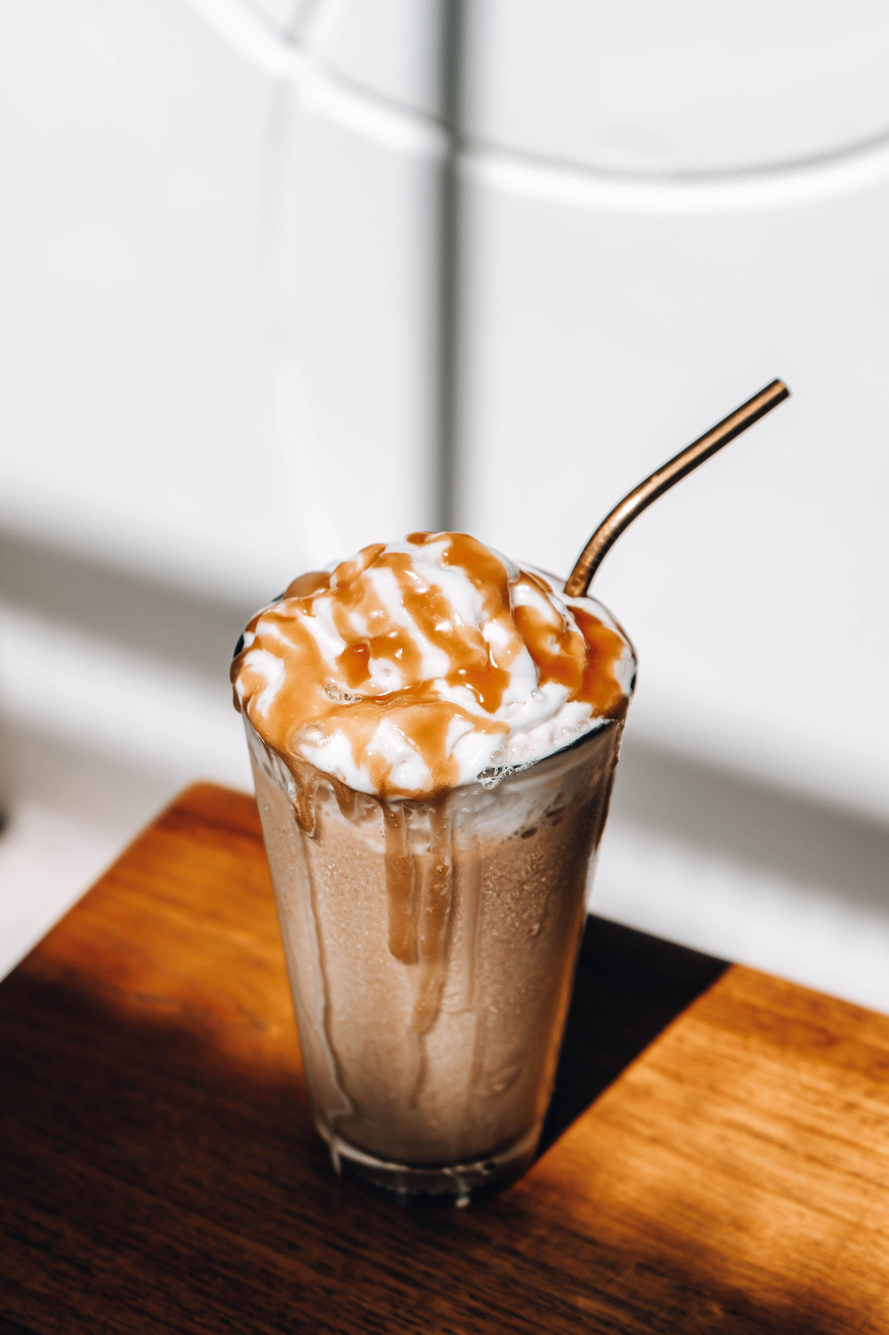glass-normal: (225, 522, 641, 1213)
